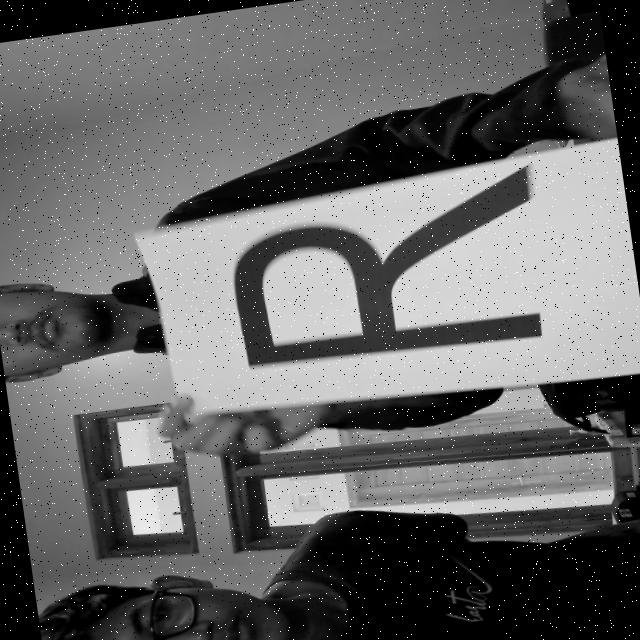r: (205, 144, 581, 387)
